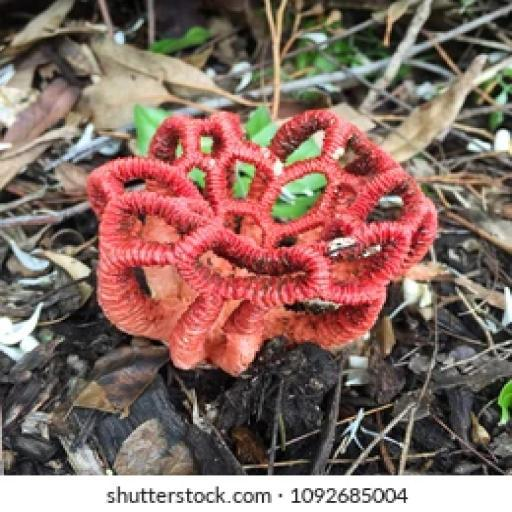mushroom: (86, 106, 438, 377)
